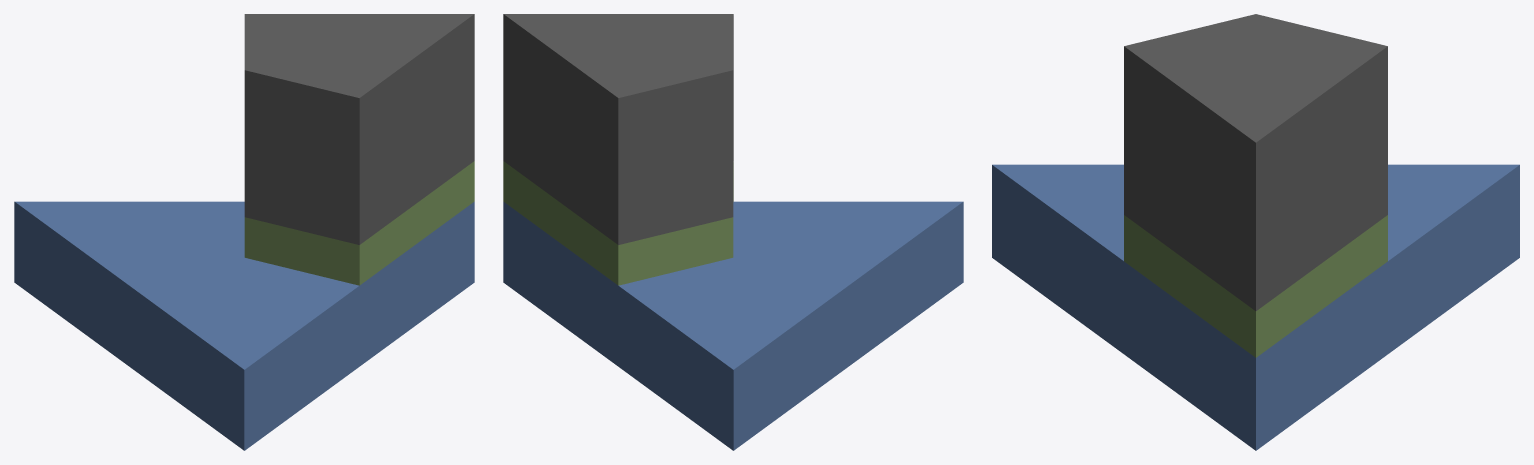
File: tri_2.glb
The picture shows the model from 3 angles, left to right: view 1: azimuth 30°, elevation 25°; view 2: azimuth 150°, elevation 25°; view 3: azimuth 270°, elevation 25°; orthographic projection. The views are drawn at different scales.
Parts seen in each view (by area): view 1: tri_2; view 2: tri_2; view 3: tri_2.
Part boxes in pixels (x1,y1,x2,y2): tri_2: (14,14,474,450); tri_2: (503,14,963,450); tri_2: (992,14,1519,450).
Bounding box in the file's own units: 0.7423 × 0.5521 × 0.8571.
